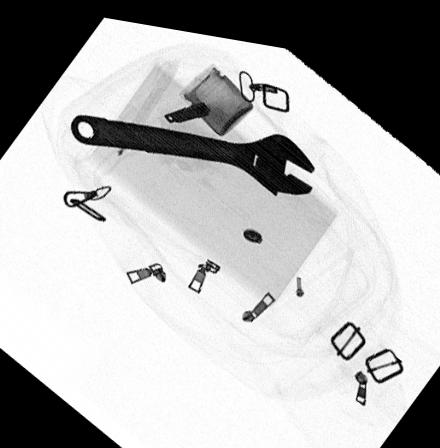Wrench: (70, 112, 317, 188)
